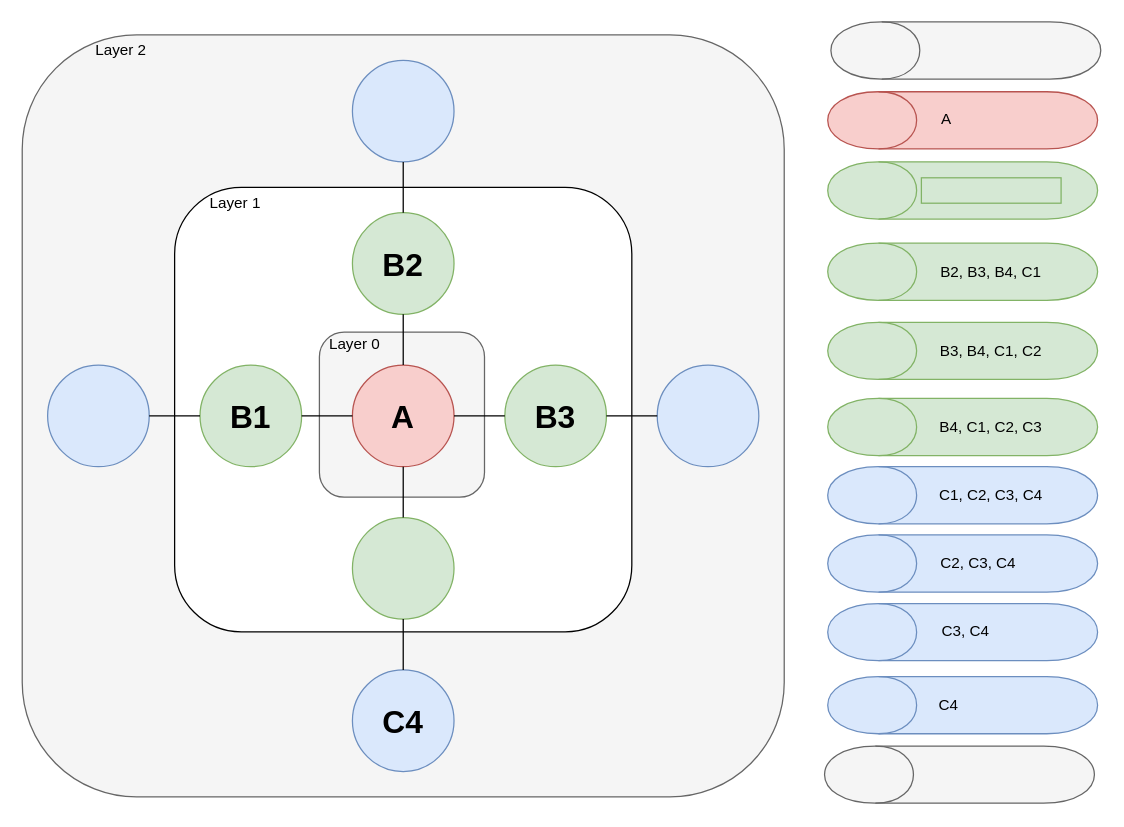
The diagram is 1124 pixels wide and 827 high, and some of its shapes have lost their labels. Here are the shapes that lost their labels. From the top down, the centre of each, then its label:
At point (402, 110): "C2".
At point (990, 190): "B1, B2, B3, B4".
At point (97, 415): "C1".
At point (707, 415): "C3".
At point (402, 567): "B4".
